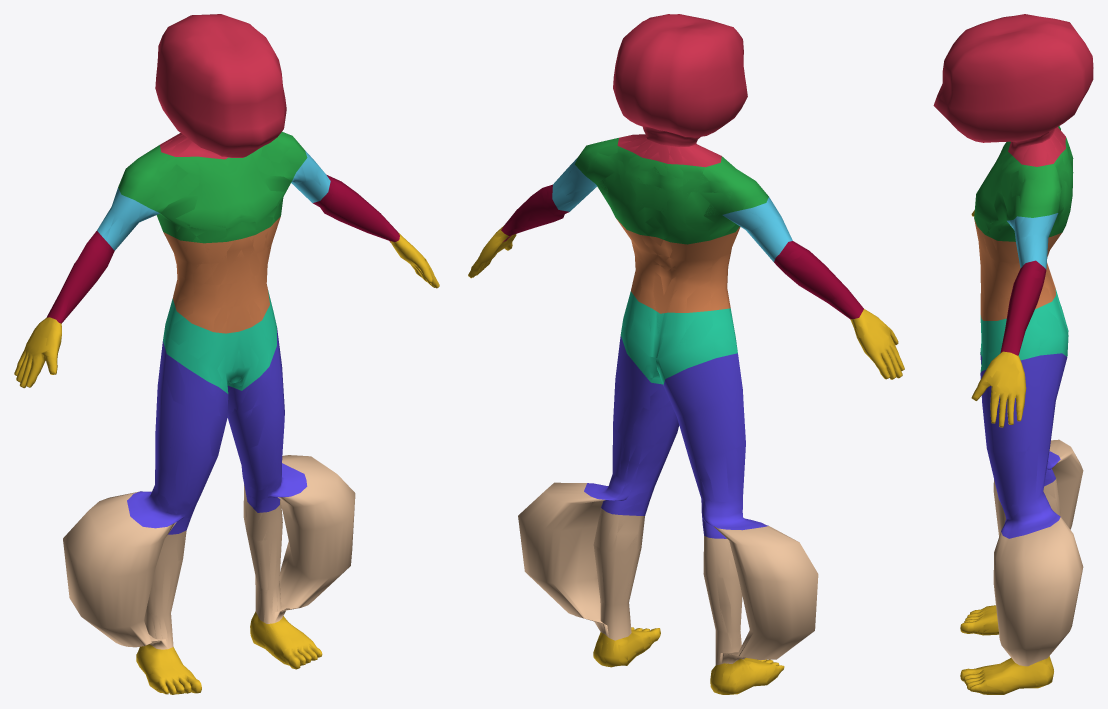
Rendered from generatedbody.fbx.
3 renders of one model, left to right at view 1: azimuth 30°, elevation 25°; view 2: azimuth 150°, elevation 25°; view 3: azimuth 270°, elevation 25°, orthographic. The views are drawn at different scales.
Visible parts, largest first — view 1: body, backup, backup2; view 2: body, backup, backup2; view 3: body, backup, backup2.
Part boxes in pixels (box(x1,y1,x2,y2)): body: box(14, 14, 439, 694); backup: box(15, 133, 438, 694); backup2: box(144, 134, 282, 648); body: box(469, 14, 904, 694); backup: box(468, 134, 904, 694); backup2: box(593, 135, 742, 653); body: box(933, 14, 1093, 694); backup: box(960, 127, 1073, 694); backup2: box(1012, 128, 1060, 514).
Bounding box in the file's own units: 124 × 180 × 41.14.
